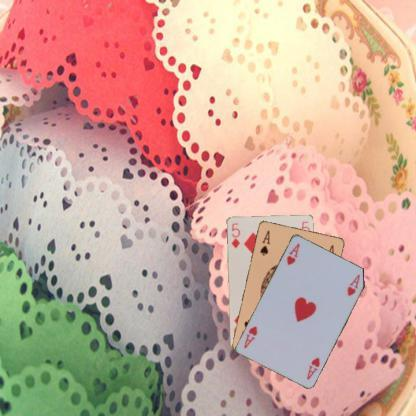5d: (229, 220, 241, 249)
Ah: (304, 355, 322, 381), (284, 240, 300, 266)
As: (258, 228, 272, 257)
